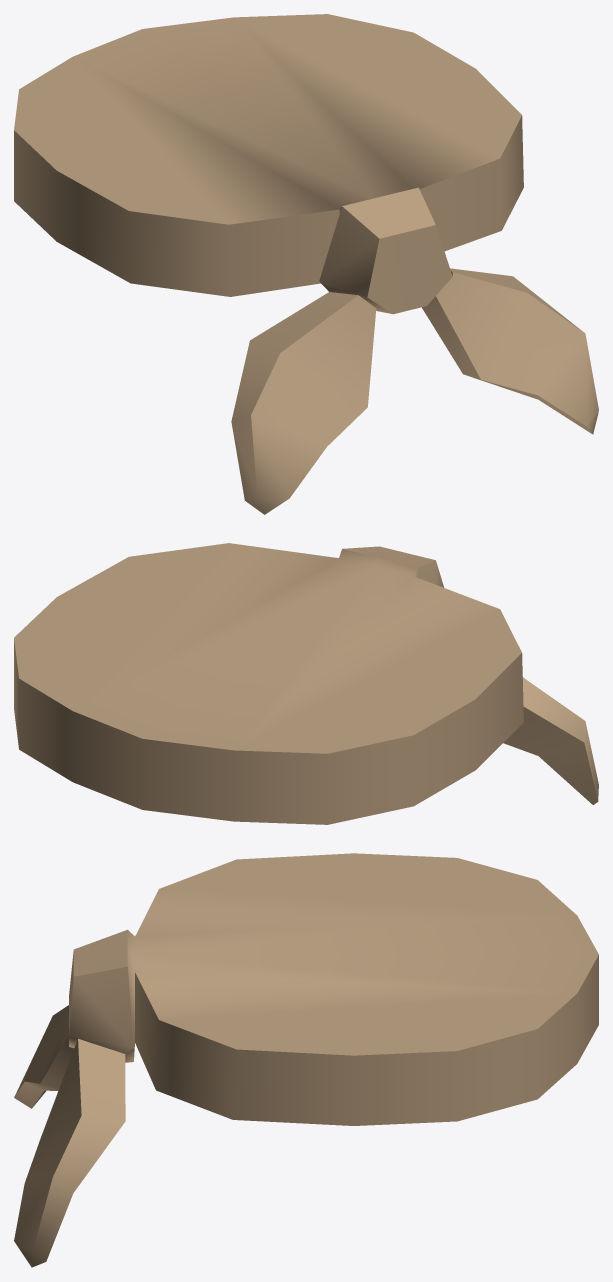
Rendered from scarf2_2.fbx.
3 views of the same model, one above another, from view 1: azimuth 30°, elevation 25°; view 2: azimuth 150°, elevation 25°; view 3: azimuth 270°, elevation 25° (orthographic).
Visible parts, largest first — view 1: scarf2_2; view 2: scarf2_2; view 3: scarf2_2.
Part boxes in pixels (bbox=[...]): scarf2_2: bbox=[14, 14, 598, 514]; scarf2_2: bbox=[14, 543, 598, 824]; scarf2_2: bbox=[14, 853, 598, 1267].
Size of the model in its own units: 65.92 by 36.48 by 80.55.
1 material, 1 textured.
